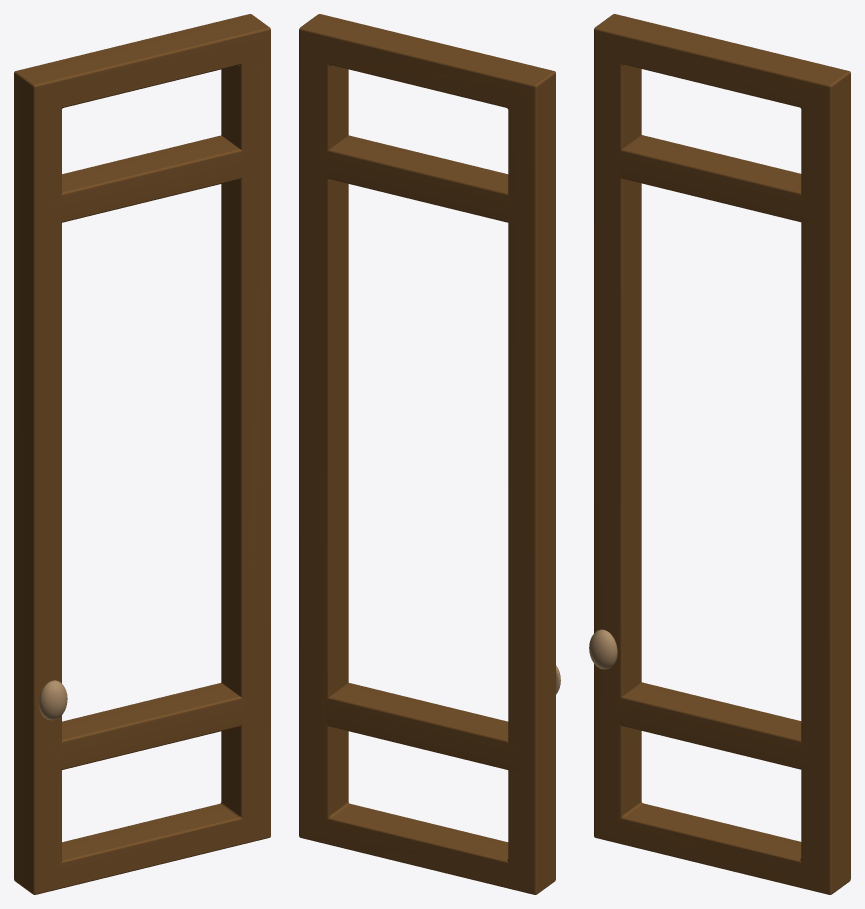
The model's file is SM_Building_WindowsFrame_01_Left.fbx.
3 views of the same model, side by side, from view 1: azimuth 30°, elevation 25°; view 2: azimuth 150°, elevation 25°; view 3: azimuth 330°, elevation 25° (orthographic).
Visible parts, largest first — view 1: Cube.004, Sphere.001; view 2: Cube.004; view 3: Cube.004, Sphere.001.
Boxes of the visible parts, bbox=[...] form: Cube.004: bbox=[14, 14, 270, 894]; Sphere.001: bbox=[39, 680, 67, 720]; Cube.004: bbox=[299, 14, 555, 894]; Cube.004: bbox=[594, 14, 850, 894]; Sphere.001: bbox=[589, 629, 617, 669].
Bounding box in the file's own units: 59.67 × 194 × 13.41.
